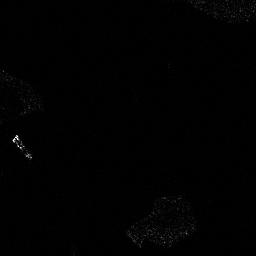ship: (12, 133, 33, 160)
